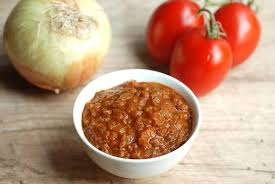onion: (1, 1, 114, 92)
tomato: (170, 27, 232, 95)
